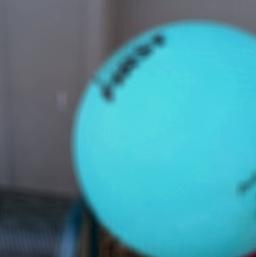algae: (67, 16, 256, 257)
